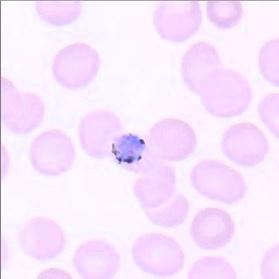Infected: (110, 132, 147, 165)
Uninfected: (198, 66, 252, 117), (190, 160, 247, 204), (77, 109, 125, 157), (132, 233, 185, 276), (29, 129, 76, 177), (52, 43, 99, 89), (148, 118, 197, 162), (180, 42, 220, 95), (221, 121, 267, 167), (153, 0, 201, 41), (19, 217, 65, 259), (141, 190, 190, 228), (74, 239, 120, 279), (133, 166, 177, 207), (1, 92, 46, 132), (191, 209, 234, 249), (205, 0, 244, 28)
